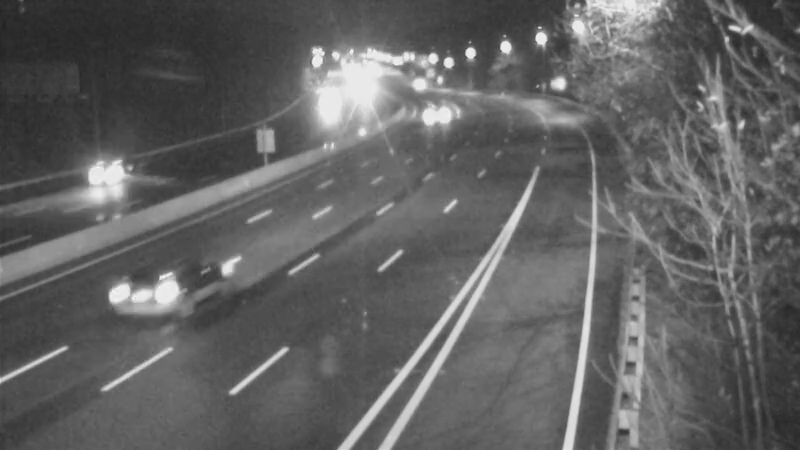vehicle: (106, 250, 186, 330), (63, 137, 143, 217), (392, 60, 442, 110), (414, 89, 464, 139), (305, 82, 355, 132)
